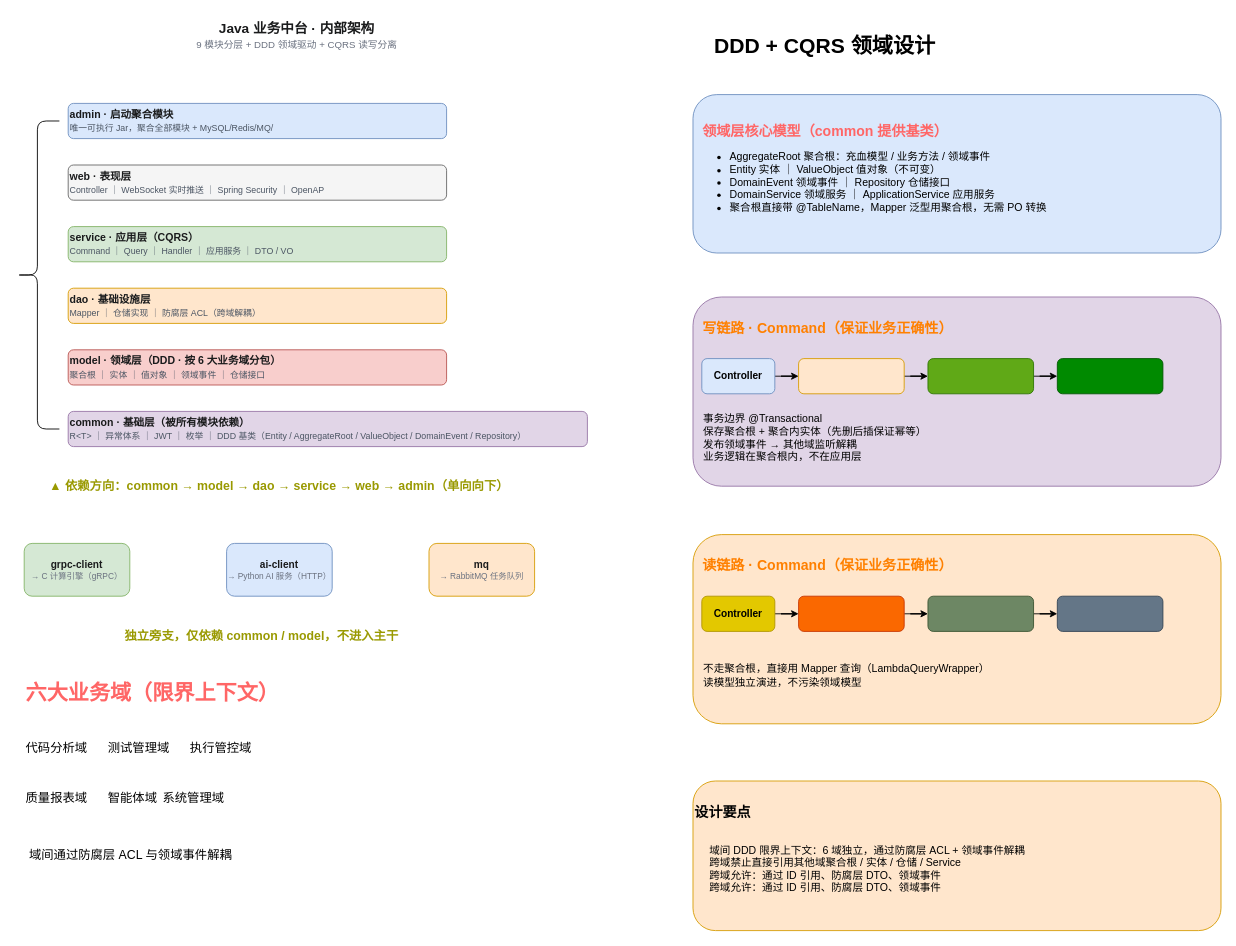
Some shapes in this 1236 by 946 pixel diagram are drawn without their labels. The shapes that lost their labels are listed below. From the top down, each one's centre as x and y in pixels, then its label:
(851,376): CommandHandler
(980,376): 聚合根业务方法
(1109,376): Repository.save
(851,613): QueryHandler
(980,613): Mapper 直查
(1109,613): VO 返回
